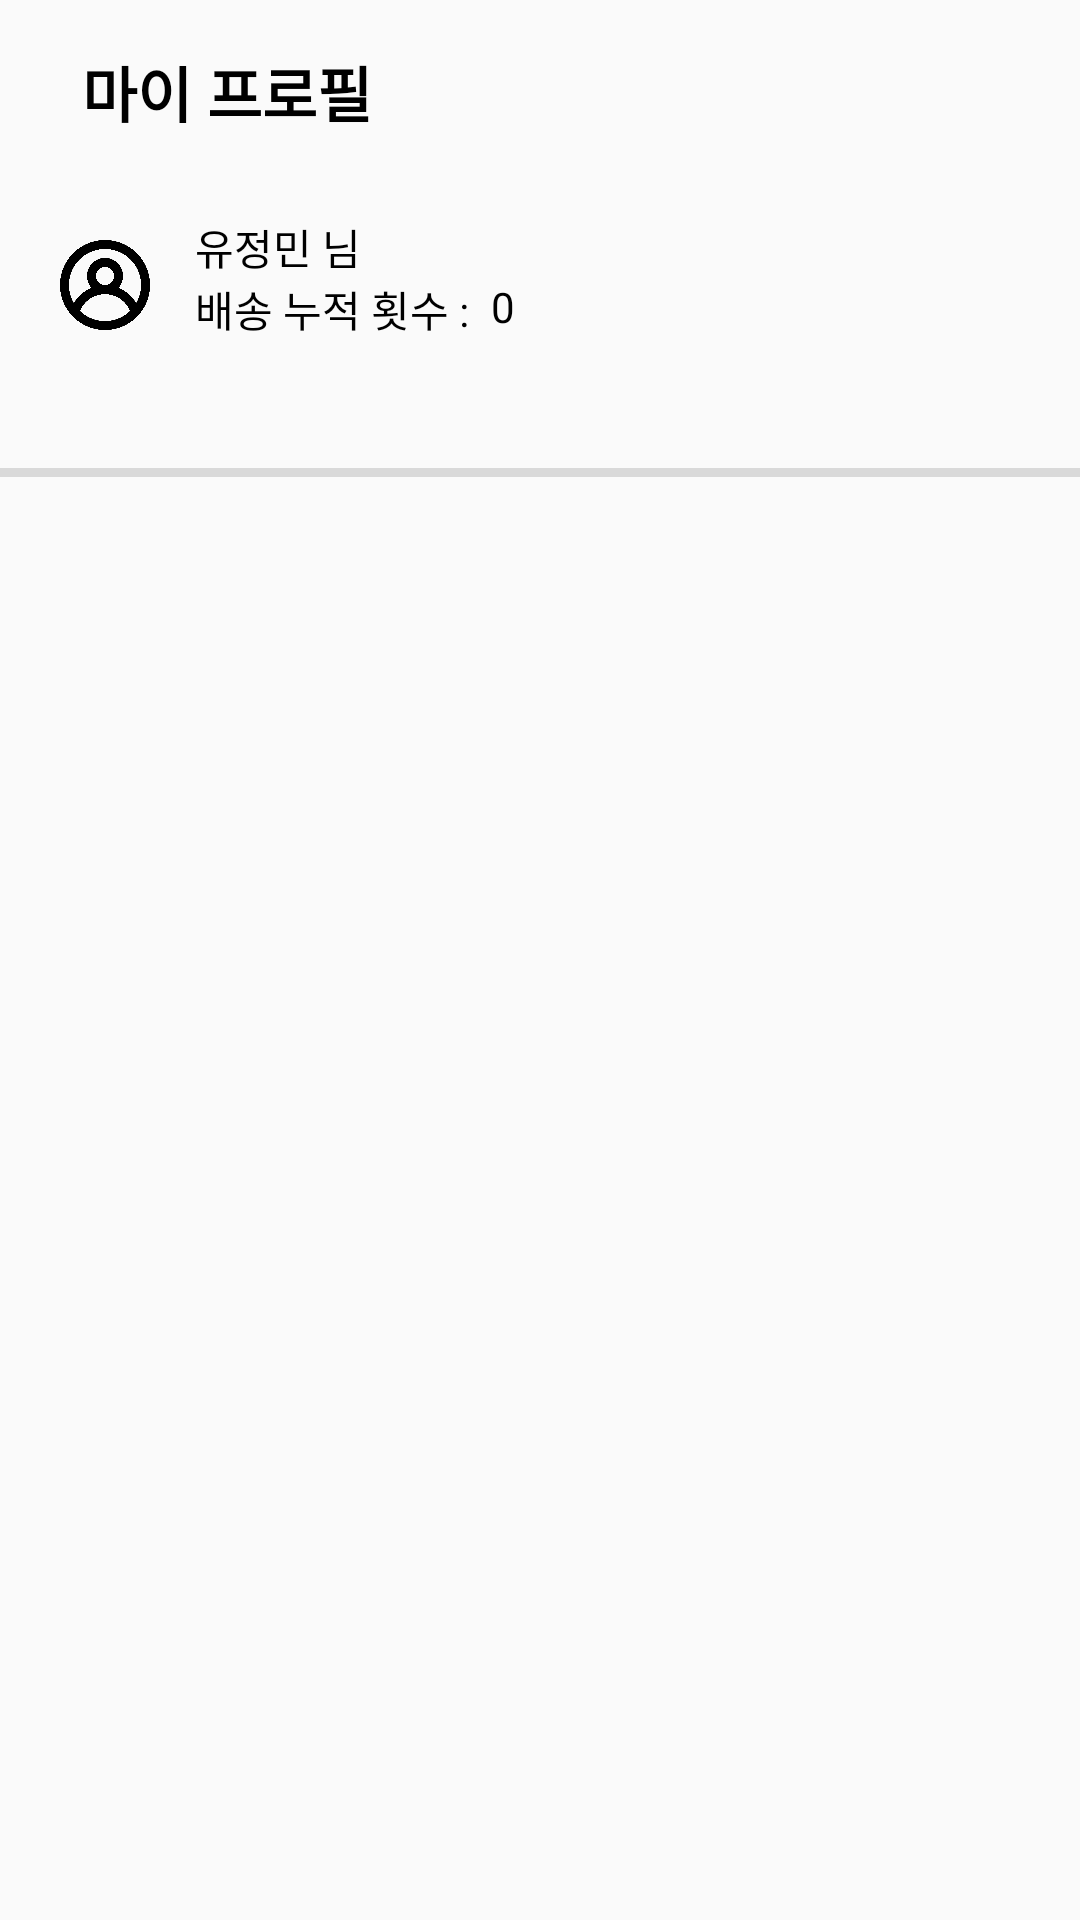

Screen size 1080px×1920px. Icon name, then its box in pixels as box=[x1, y1, x2, y2]:
profile: box=[60, 240, 150, 330]
